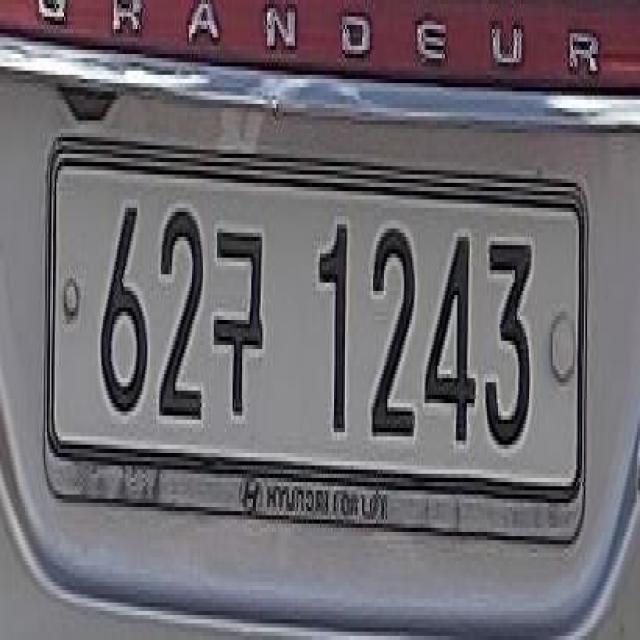1: (310, 200, 360, 442)
2: (364, 211, 421, 444), (155, 206, 205, 433)
3: (480, 220, 536, 449)
4: (423, 223, 477, 452)
6: (92, 193, 150, 416)
gu: (208, 206, 271, 427)
license_plate: (41, 129, 594, 563)
